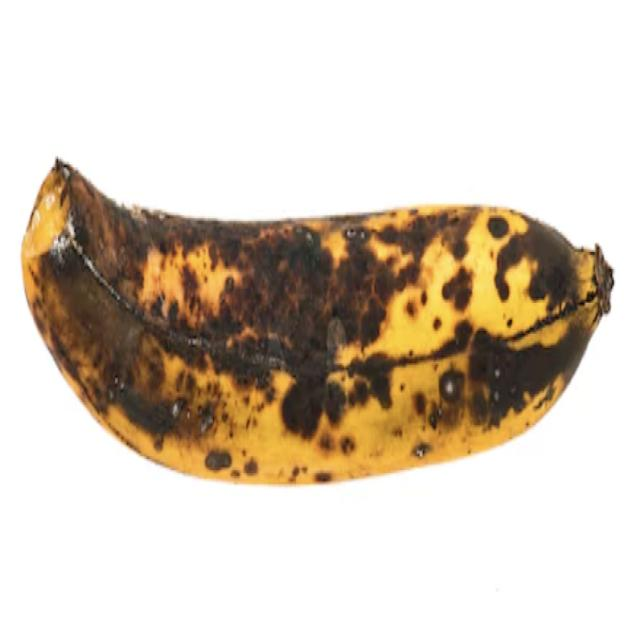rotten-banana: (20, 153, 614, 487)
